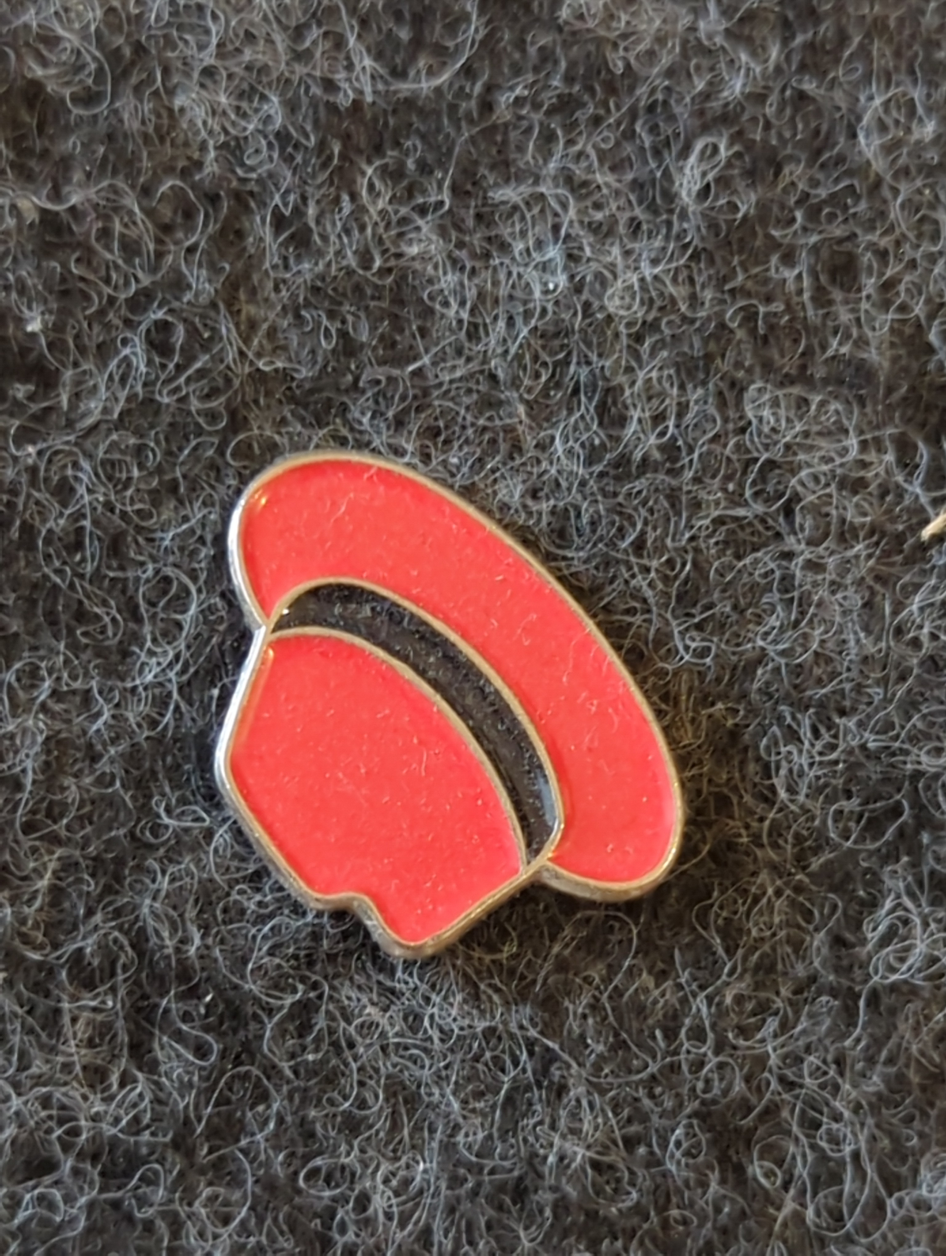Red-Hat: (68, 349, 806, 1023)
